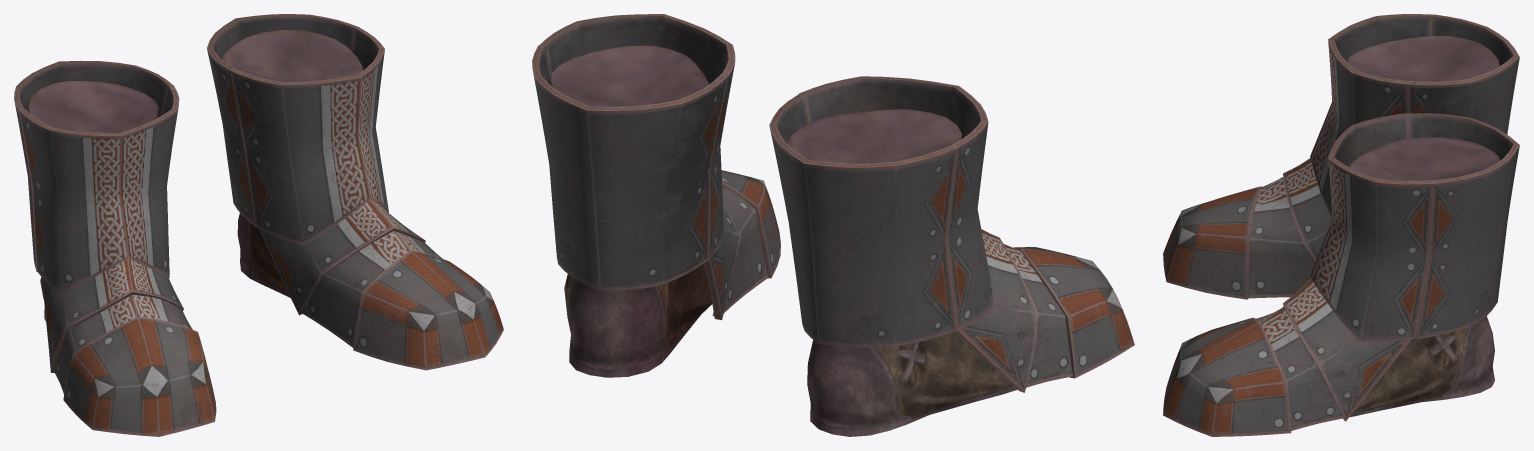
File: sk_dwarf_dain_boots_heavy_b.fbx
The picture shows the model from 3 angles, left to right: view 1: azimuth 30°, elevation 25°; view 2: azimuth 150°, elevation 25°; view 3: azimuth 270°, elevation 25°; orthographic projection. The views are drawn at different scales.
Parts seen in each view (by area): view 1: sk_dwarf_dain_boots_heavy_b; view 2: sk_dwarf_dain_boots_heavy_b; view 3: sk_dwarf_dain_boots_heavy_b.
Boxes of the visible parts, <box> form: sk_dwarf_dain_boots_heavy_b: <box>14,14,503,436</box>; sk_dwarf_dain_boots_heavy_b: <box>532,14,1134,436</box>; sk_dwarf_dain_boots_heavy_b: <box>1163,14,1519,436</box>.
Size of the model in its own units: 0.5801 by 0.4277 by 0.3159.
Materials: 1 (1 with a texture image).
